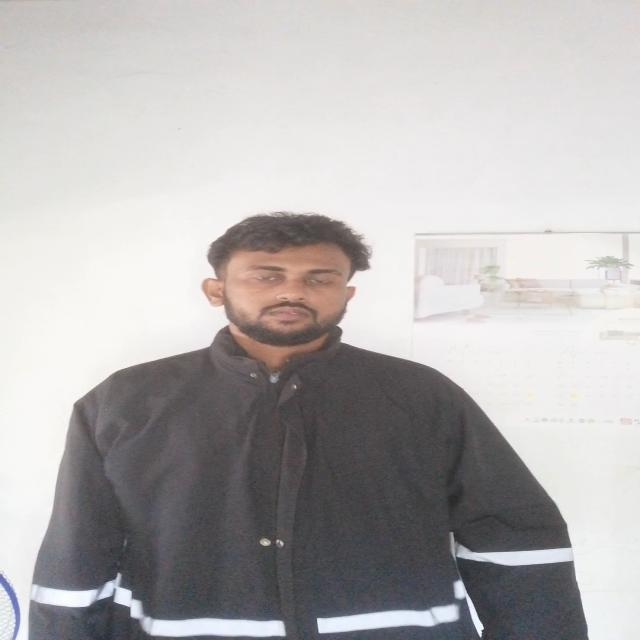Jacket_Wearer: (33, 311, 600, 640)
